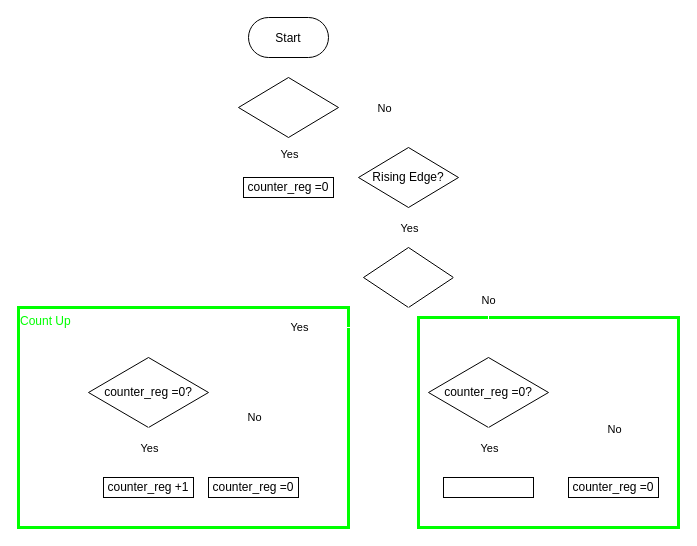
This 697x546 diagram has some shape labels left out. Each missing label, with the box of its shape:
Count Down: (416, 316, 680, 528)
counter_reg -1: (442, 476, 534, 498)
reset: (238, 76, 338, 138)
up_down=1?: (362, 246, 454, 308)
